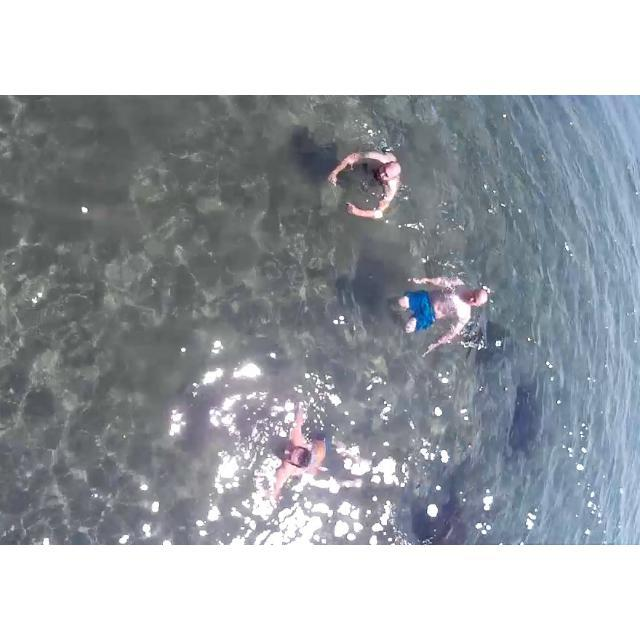human: (390, 243, 487, 365), (333, 119, 410, 236), (246, 384, 323, 491)
